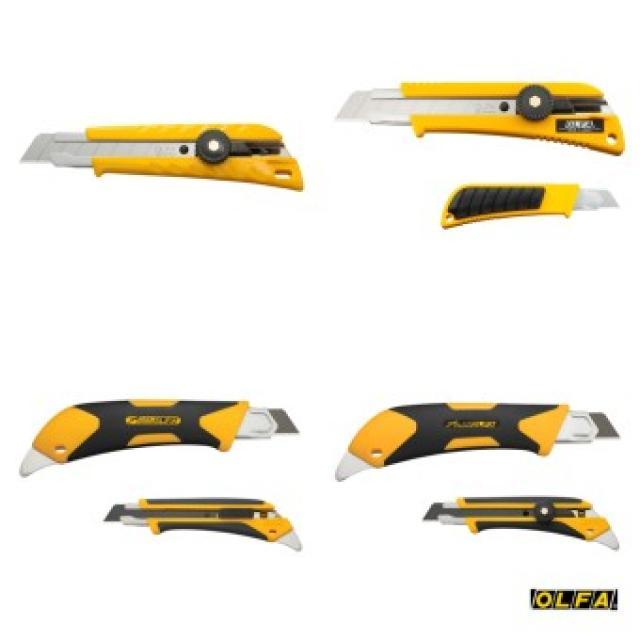cutter: (303, 382, 636, 489), (11, 106, 336, 210), (330, 69, 640, 169), (4, 376, 316, 474), (412, 480, 633, 571), (98, 483, 330, 566), (414, 168, 632, 238)
